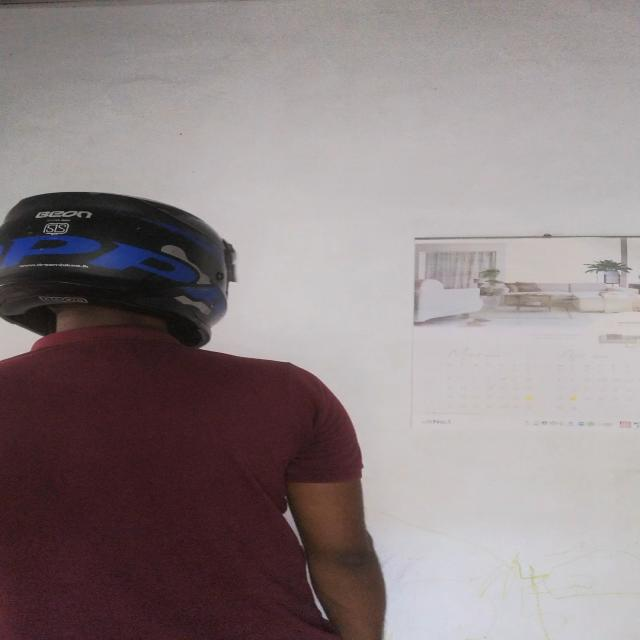Helmet_Wearer: (0, 185, 252, 384)
Person: (7, 187, 400, 633)
